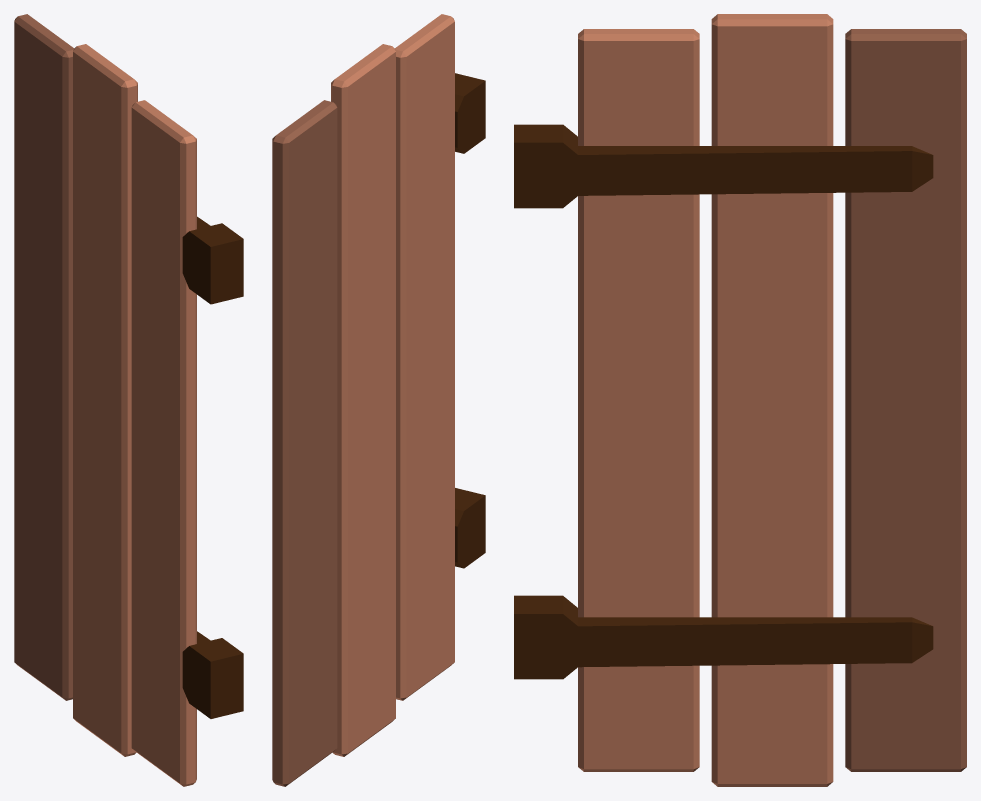
File: Shutter A.fbx
3 renders of one model, left to right at view 1: azimuth 30°, elevation 25°; view 2: azimuth 150°, elevation 25°; view 3: azimuth 270°, elevation 25°, orthographic. The views are drawn at different scales.
Visible parts, largest first — view 1: Shutter A; view 2: Shutter A; view 3: Shutter A.
Part boxes in pixels (x1=…): Shutter A: x1=14, y1=14, x2=243, y2=786; Shutter A: x1=272, y1=14, x2=485, y2=786; Shutter A: x1=514, y1=14, x2=966, y2=786.
Bounding box in the file's own units: 6.15 × 120 × 64.26.
